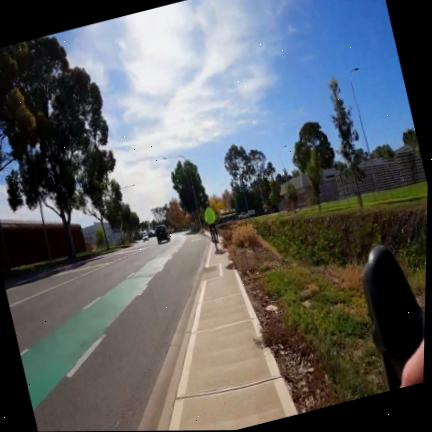Green_Bike_Lane: (20, 236, 185, 410)
